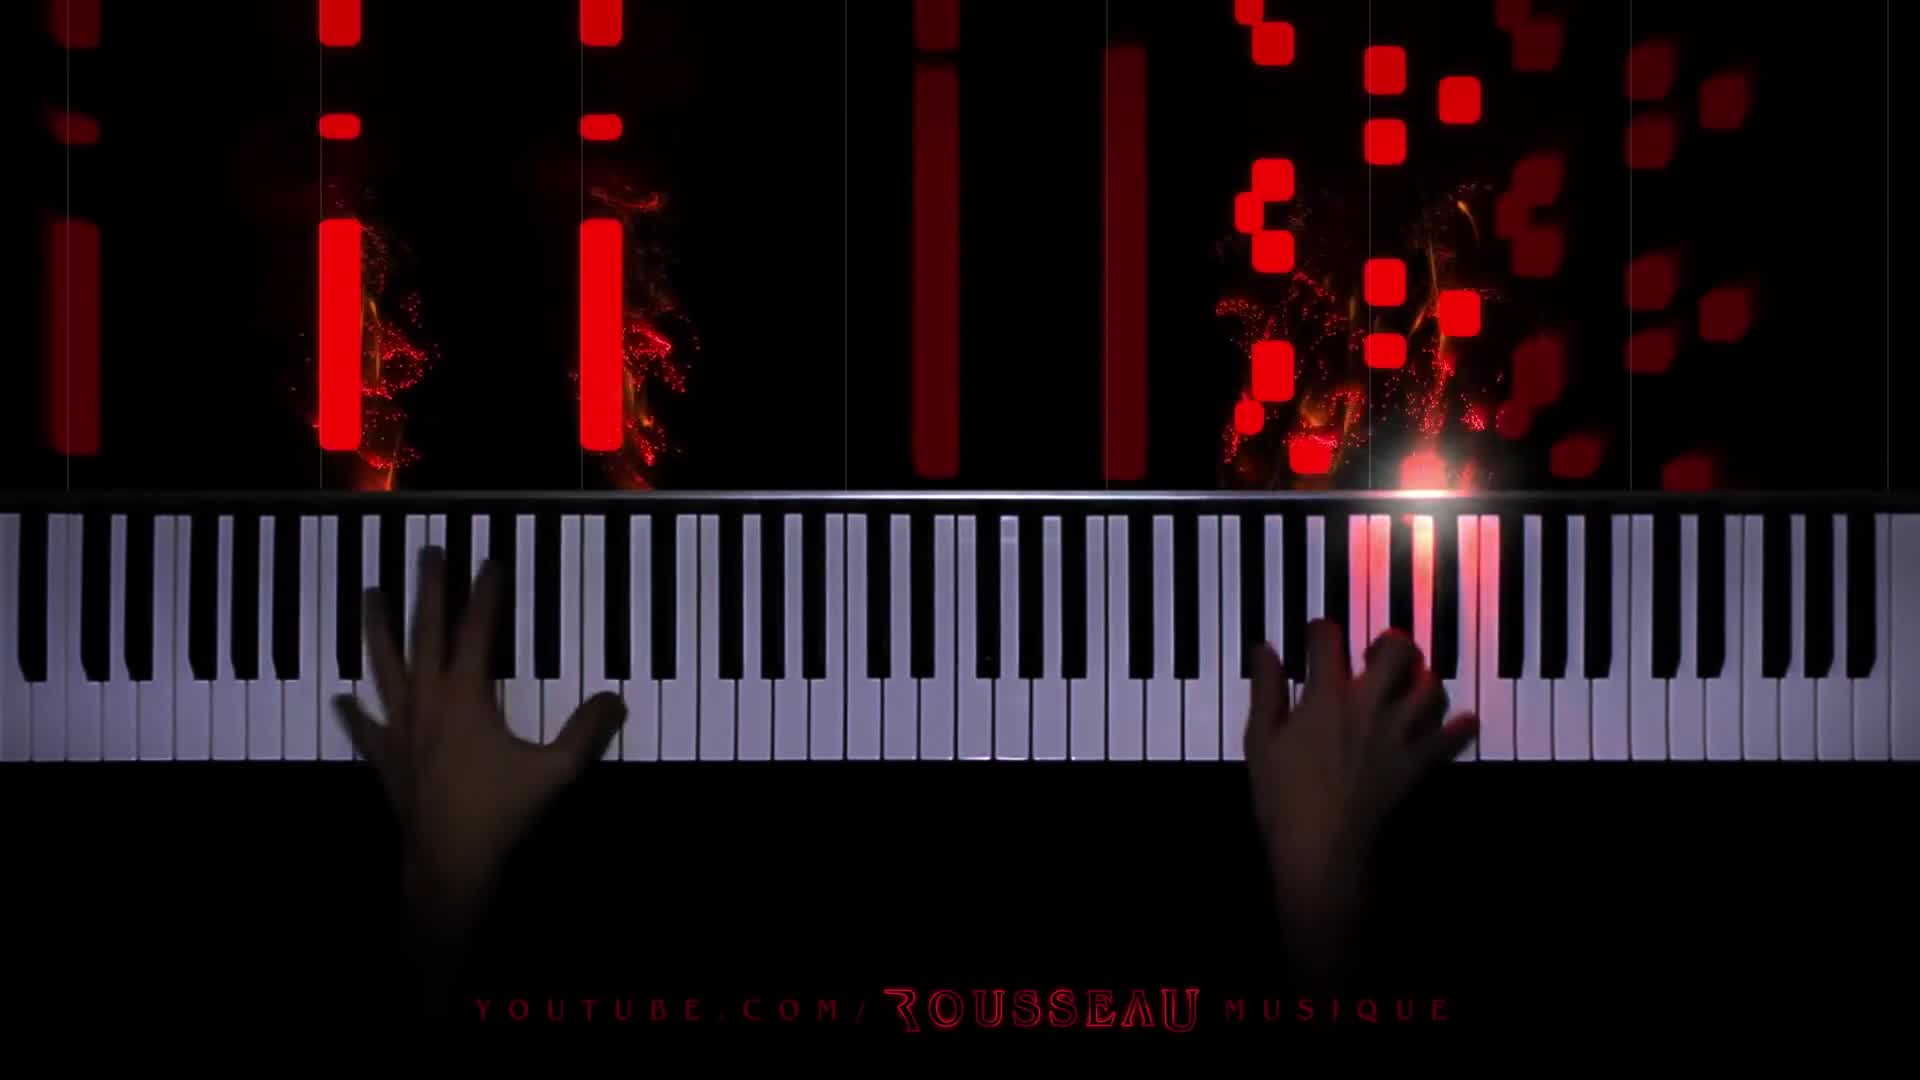left: (336, 537, 625, 895)
right: (1238, 617, 1477, 905)
